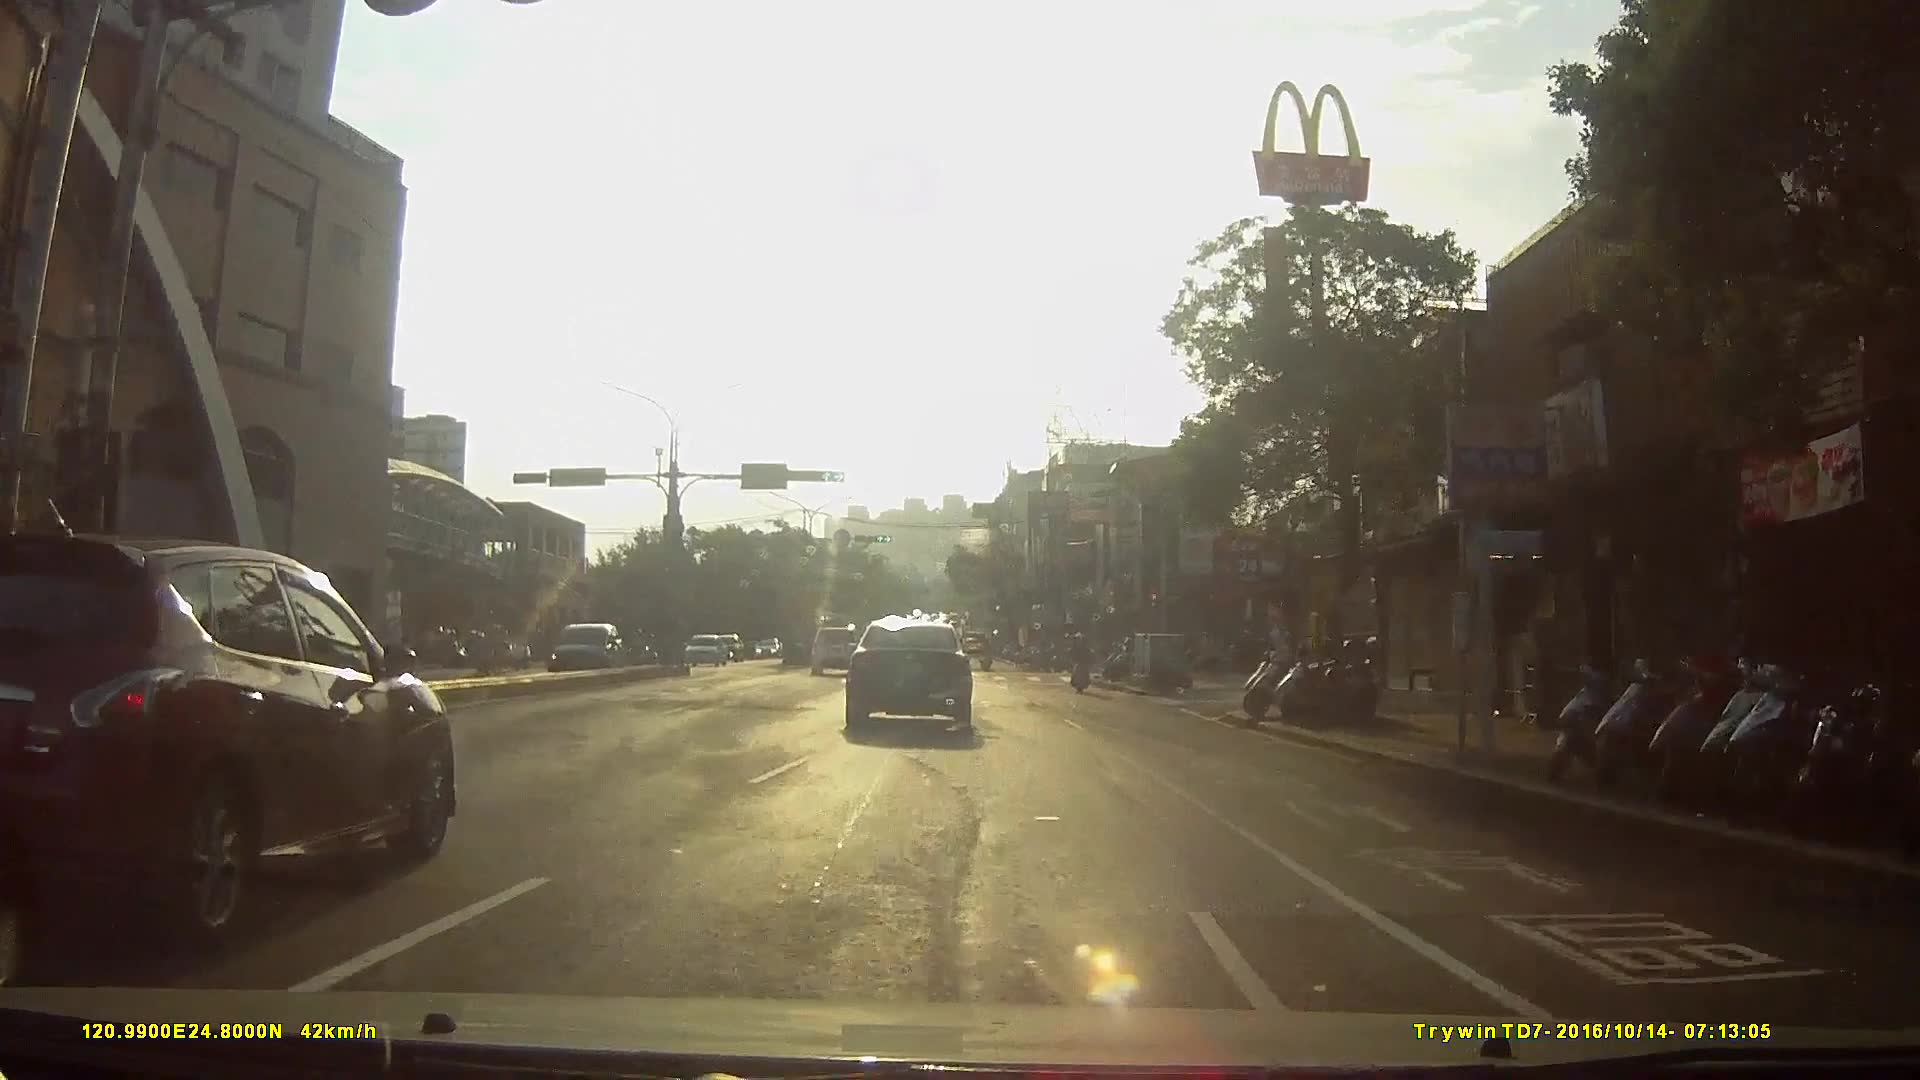rider: (1071, 626, 1096, 694), (976, 639, 997, 675)
vehicle: (1, 524, 473, 949), (843, 610, 990, 733), (536, 620, 631, 682), (807, 621, 864, 676), (681, 629, 729, 668), (705, 631, 749, 662)
